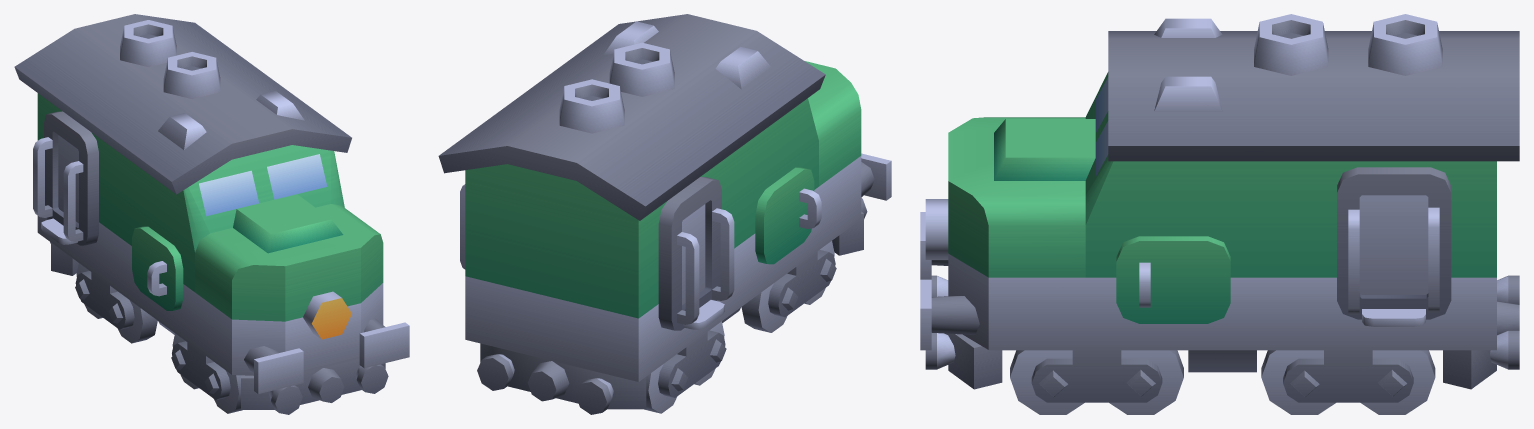
Rendered from train-diesel-box-a.glb.
3 renders of one model, left to right at view 1: azimuth 30°, elevation 25°; view 2: azimuth 150°, elevation 25°; view 3: azimuth 270°, elevation 25°, orthographic. The views are drawn at different scales.
Visible parts, largest first — view 1: train-diesel-box-a; view 2: train-diesel-box-a; view 3: train-diesel-box-a.
Part boxes in pixels (x1=…): train-diesel-box-a: x1=14, y1=14, x2=409, y2=414; train-diesel-box-a: x1=438, y1=14, x2=891, y2=414; train-diesel-box-a: x1=920, y1=14, x2=1519, y2=414.
Size of the model in its own units: 1.35 by 1.67 by 2.62.
1 material, 1 textured.
